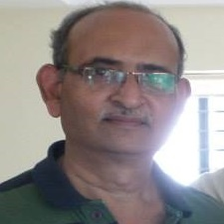no_mask: (63, 22, 178, 155)
